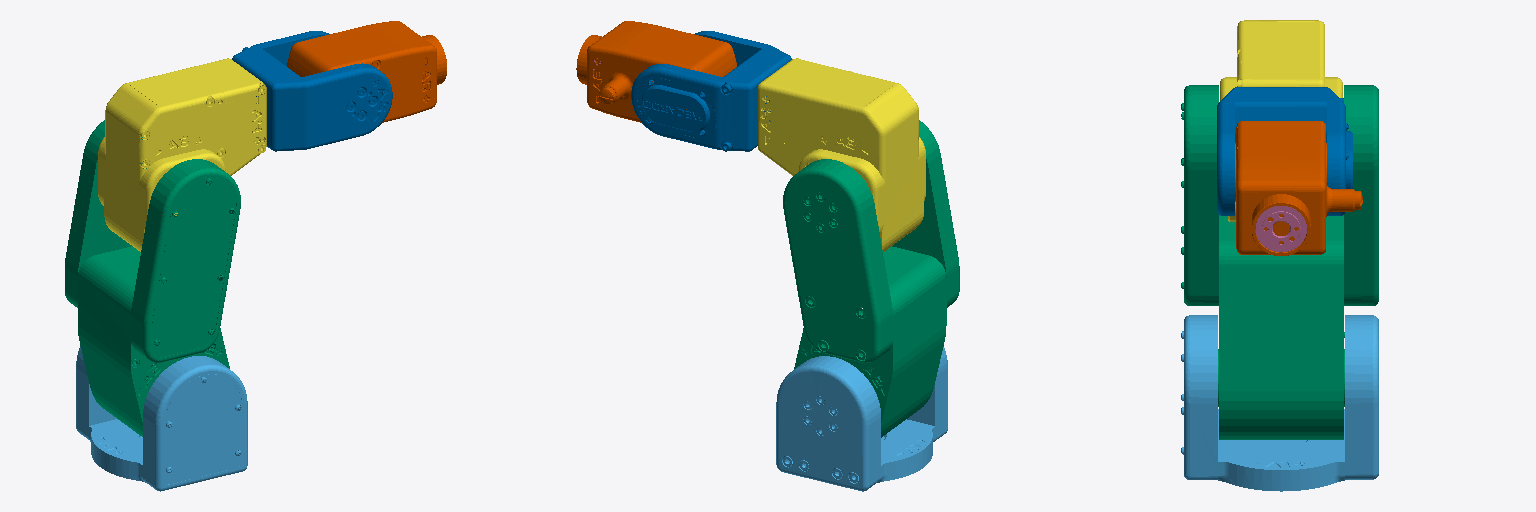
The robot description file, URDF, robot "meca_500_r3":
<?xml version="1.0" ?>
<!-- =================================================================================== -->
<!-- |    This document was autogenerated by xacro from meca_500_r3.urdf.xacro         | -->
<!-- |    EDITING THIS FILE BY HAND IS NOT RECOMMENDED                                 | -->
<!-- =================================================================================== -->
<robot name="meca_500_r3">
  <mujoco>
    <compiler 
    meshdir="PATH_TO_MESHES_DIRECTORY" 
    balanceinertia="true" 
    discardvisual="false" />
  </mujoco>
  <!-- Base link is the center of the robot's bottom plate -->
  <link name="meca_base_link">
    <visual>
      <origin rpy="0 0 0" xyz="0 0 0"/>
      <geometry>
        <mesh filename="[local-path]/phd/imitation_learning/robosuite/robosuite/models/assets/robots/mecademic_description/meshes/meca_500_r3_base.stl" />
      </geometry>
    </visual>
    <collision>
      <origin rpy="0 0 0" xyz="0 0 0"/>
      <geometry>
        <mesh filename="package://mecademic_description/meshes/meca_500_r3_base_collision.stl"/>
      </geometry>
    </collision>
  </link>
  <!-- Joint 1 -->
  <link name="meca_axis_1_link">
    <visual>
      <origin rpy="0 0 0" xyz="0 0 0"/>
      <geometry>
        <mesh filename="package://mecademic_description/meshes/meca_500_r3_j1.stl"/>
      </geometry>
    </visual>
    <collision>
      <origin rpy="0 0 0" xyz="0 0 0"/>
      <geometry>
        <mesh filename="package://mecademic_description/meshes/meca_500_r3_j1_collision.stl"/>
      </geometry>
    </collision>
  </link>
  <joint name="meca_axis_1_joint" type="revolute">
    <origin rpy="0 0 0" xyz="0.012498 0 0.091"/>
    <parent link="meca_base_link"/>
    <child link="meca_axis_1_link"/>
    <axis xyz="0 0 1"/>
    <limit effort="10.0" lower="-3.05433" upper="3.05433" velocity="2.61799"/>
  </joint>
  <!-- Joint 2 -->
  <link name="meca_axis_2_link">
    <visual>
      <origin rpy="0 0 0" xyz="0 0 0"/>
      <geometry>
        <mesh filename="package://mecademic_description/meshes/meca_500_r3_j2.stl"/>
      </geometry>
    </visual>
    <collision>
      <origin rpy="0 0 0" xyz="0 0 0"/>
      <geometry>
        <mesh filename="package://mecademic_description/meshes/meca_500_r3_j2_collision.stl"/>
      </geometry>
    </collision>
  </link>
  <joint name="meca_axis_2_joint" type="revolute">
    <origin rpy="0 0 0" xyz="0 0 0.044"/>
    <parent link="meca_axis_1_link"/>
    <child link="meca_axis_2_link"/>
    <axis xyz="0 1 0"/>
    <limit effort="10.0" lower="-1.22173048" upper="1.5708" velocity="2.61799"/>
  </joint>
  <!-- Joint 3 -->
  <link name="meca_axis_3_link">
    <visual>
      <origin rpy="0 0 0" xyz="0 0 0"/>
      <geometry>
        <mesh filename="package://mecademic_description/meshes/meca_500_r3_j3.stl"/>
      </geometry>
    </visual>
    <collision>
      <origin rpy="0 0 0" xyz="0 0 0"/>
      <geometry>
        <mesh filename="package://mecademic_description/meshes/meca_500_r3_j3_collision.stl"/>
      </geometry>
    </collision>
  </link>
  <joint name="meca_axis_3_joint" type="revolute">
    <origin rpy="0 0 0" xyz="0 0 0.135"/>
    <parent link="meca_axis_2_link"/>
    <child link="meca_axis_3_link"/>
    <axis xyz="0 1 0"/>
    <limit effort="10.0" lower="-2.35619" upper="1.22173048" velocity="3.14159"/>
  </joint>
  <!-- Joint 4 -->
  <link name="meca_axis_4_link">
    <visual>
      <origin rpy="0 0 0" xyz="0 0 0"/>
      <geometry>
        <mesh filename="package://mecademic_description/meshes/meca_500_r3_j4.stl"/>
      </geometry>
    </visual>
    <collision>
      <origin rpy="0 0 0" xyz="0 0 0"/>
      <geometry>
        <mesh filename="package://mecademic_description/meshes/meca_500_r3_j4_collision.stl"/>
      </geometry>
    </collision>
  </link>
  <joint name="meca_axis_4_joint" type="revolute">
    <origin rpy="0 0 0" xyz="0 0 0.038"/>
    <parent link="meca_axis_3_link"/>
    <child link="meca_axis_4_link"/>
    <axis xyz="1 0 0"/>
    <limit effort="10.0" lower="-2.96706" upper="2.96706" velocity="5.23599"/>
  </joint>
  <!-- Joint 5 -->
  <link name="meca_axis_5_link">
    <visual>
      <origin rpy="0 0 0" xyz="0 0 0"/>
      <geometry>
        <mesh filename="package://mecademic_description/meshes/meca_500_r3_j5.stl"/>
      </geometry>
    </visual>
    <collision>
      <origin rpy="0 0 0" xyz="0 0 0"/>
      <geometry>
        <mesh filename="package://mecademic_description/meshes/meca_500_r3_j5_collision.stl"/>
      </geometry>
    </collision>
  </link>
  <joint name="meca_axis_5_joint" type="revolute">
    <origin rpy="0 0 0" xyz="0.12 0 0"/>
    <parent link="meca_axis_4_link"/>
    <child link="meca_axis_5_link"/>
    <axis xyz="0 1 0"/>
    <limit effort="10.0" lower="-2.00713" upper="2.00713" velocity="5.23599"/>
  </joint>
  <!-- Joint 6 -->
  <link name="meca_axis_6_link">
    <visual>
      <origin rpy="0 0 0" xyz="0 0 0"/>
      <geometry>
        <mesh filename="package://mecademic_description/meshes/meca_500_r3_j6.stl"/>
      </geometry>
    </visual>
    <collision>
      <origin rpy="0 0 0" xyz="0 0 0"/>
      <geometry>
        <mesh filename="package://mecademic_description/meshes/meca_500_r3_j6_collision.stl"/>
      </geometry>
    </collision>
  </link>
  <joint name="meca_axis_6_joint" type="revolute">
    <origin rpy="0 0 0" xyz="0.07 0 0"/>
    <parent link="meca_axis_5_link"/>
    <child link="meca_axis_6_link"/>
    <axis xyz="1 0 0"/>
    <limit effort="10.0" lower="-3.14159" upper="3.14159" velocity="8.72665"/>
  </joint>
</robot>

--- What the picture shows (computed from the rendered views, not written in the file) ---
Views: 3 orthographic renders of the robot side by side, from view 1: azimuth 30°, elevation 25°; view 2: azimuth 150°, elevation 25°; view 3: azimuth 270°, elevation 25°.
Robot: meca_500_r3 — 7 links, 6 joints (6 revolute); root link meca_base_link; default pose: all joints at 0.
Links seen in each view (by area): view 1: meca_axis_2_link, meca_axis_3_link, meca_axis_1_link, meca_axis_4_link, meca_axis_5_link; view 2: meca_axis_2_link, meca_axis_3_link, meca_axis_1_link, meca_axis_4_link, meca_axis_5_link; view 3: meca_axis_2_link, meca_axis_1_link, meca_axis_5_link, meca_axis_4_link, meca_axis_3_link, meca_axis_6_link.
Boxes of the visible links, box(x1,y1,x2,y2) form: meca_axis_2_link: box(65, 120, 240, 436); meca_axis_3_link: box(98, 58, 266, 251); meca_axis_1_link: box(76, 346, 247, 491); meca_axis_4_link: box(232, 31, 392, 151); meca_axis_5_link: box(287, 21, 446, 122); meca_axis_2_link: box(783, 120, 959, 437); meca_axis_3_link: box(758, 58, 925, 251); meca_axis_1_link: box(776, 347, 947, 491); meca_axis_4_link: box(631, 31, 791, 151); meca_axis_5_link: box(576, 21, 736, 122); meca_axis_2_link: box(1181, 85, 1378, 439); meca_axis_1_link: box(1181, 315, 1378, 491); meca_axis_5_link: box(1235, 121, 1362, 255); meca_axis_4_link: box(1217, 87, 1352, 215); meca_axis_3_link: box(1220, 20, 1342, 221); meca_axis_6_link: box(1256, 206, 1306, 251).
Bounding box of the posed robot: 0.2325 × 0.1014 × 0.24 m (x, y, z).
Meshes: 6 distinct files referenced, 6 mesh visuals loaded (6 binary STL); not drawn: 1 (reference in a form the renderer does not follow; not among the files counted above).